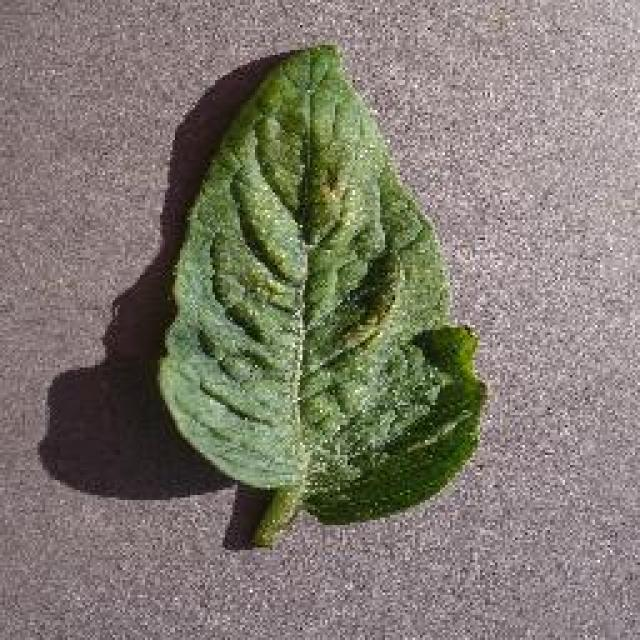Tomato mosaic virus leaf: (154, 42, 491, 528)
